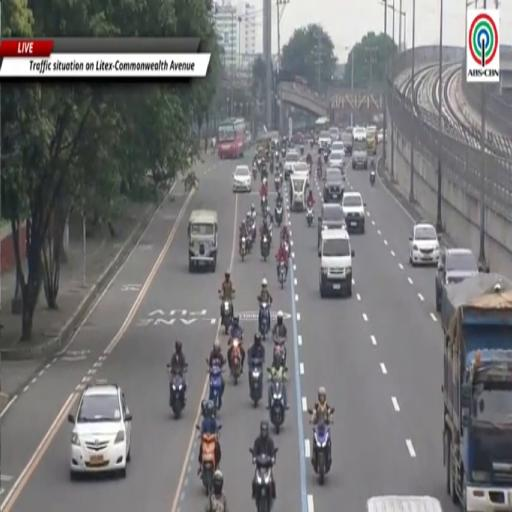bus: (217, 119, 245, 158)
car: (68, 381, 131, 479), (436, 248, 481, 311), (319, 230, 354, 297), (318, 204, 345, 254), (409, 222, 440, 265), (342, 191, 365, 233), (324, 168, 344, 203), (352, 137, 368, 169), (233, 166, 251, 191), (284, 151, 299, 179), (328, 151, 344, 168), (318, 131, 331, 151), (342, 133, 353, 155), (331, 140, 345, 155), (294, 162, 309, 173), (329, 127, 339, 142), (378, 130, 383, 142)
jeepney: (188, 210, 218, 273), (367, 495, 442, 511), (256, 132, 279, 153), (367, 126, 378, 155)
motorcycle: (250, 448, 277, 511), (200, 425, 221, 494), (312, 419, 331, 485), (268, 368, 286, 434), (168, 364, 186, 419), (249, 359, 263, 407), (209, 365, 223, 412), (230, 339, 241, 385), (259, 302, 269, 340), (274, 336, 286, 366), (222, 300, 232, 333), (261, 235, 269, 261), (239, 237, 247, 261), (279, 262, 286, 289), (275, 205, 282, 227), (251, 219, 257, 244), (306, 207, 313, 227), (275, 172, 281, 191), (261, 196, 267, 215), (261, 162, 267, 180), (256, 157, 262, 172), (268, 222, 272, 244), (285, 242, 290, 259), (252, 164, 257, 180), (370, 170, 375, 186), (317, 165, 321, 179), (324, 152, 328, 164), (318, 147, 324, 155), (275, 151, 279, 162), (307, 164, 311, 175), (270, 162, 274, 173), (300, 144, 303, 155), (282, 148, 285, 157), (310, 140, 313, 148)
truck: (441, 274, 511, 511)
